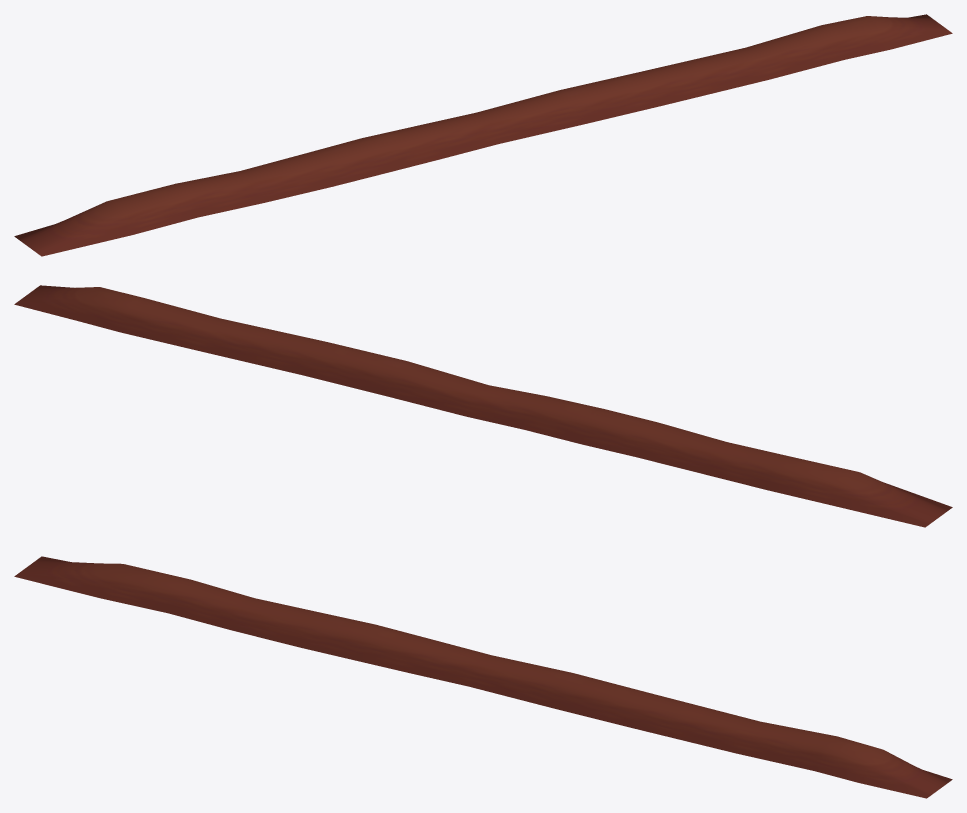
File: CropLump.fbx
3 renders of one model, top to bottom at view 1: azimuth 30°, elevation 25°; view 2: azimuth 150°, elevation 25°; view 3: azimuth 330°, elevation 25°, orthographic.
Parts seen in each view (by area): view 1: pCylinder1; view 2: pCylinder1; view 3: pCylinder1.
Boxes of the visible parts, x1=… form: pCylinder1: x1=14, y1=14, x2=952, y2=256; pCylinder1: x1=14, y1=285, x2=952, y2=527; pCylinder1: x1=14, y1=556, x2=952, y2=798.
Bounding box in the file's own units: 20.63 × 0.4806 × 1.34.
Materials: 1 (1 with a texture image).
